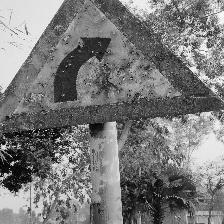Right-turn: (1, 0, 223, 129)
